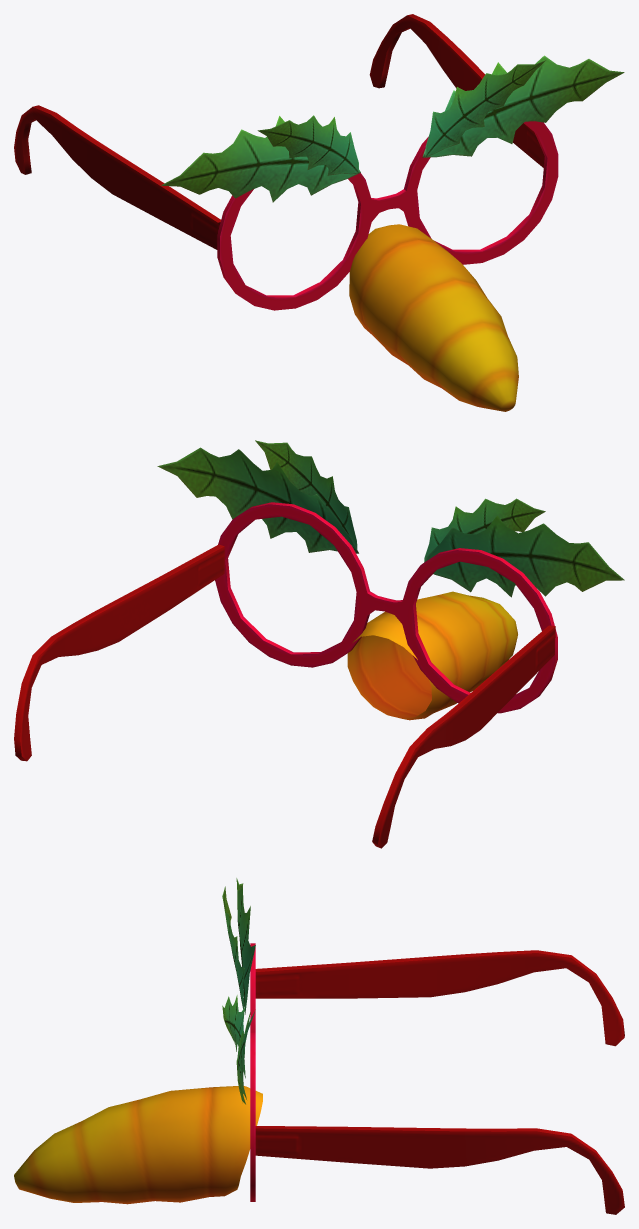
File: glasses.glb
3 views of the same model, one above another, from view 1: azimuth 30°, elevation 25°; view 2: azimuth 150°, elevation 25°; view 3: azimuth 270°, elevation 25° (orthographic). The views are drawn at different scales.
Visible parts, largest first — view 1: Wolf3D_Glasses; view 2: Wolf3D_Glasses; view 3: Wolf3D_Glasses.
Part boxes in pixels (left/top/right/bottom): Wolf3D_Glasses: left=14, top=14, right=624, bottom=411; Wolf3D_Glasses: left=14, top=440, right=624, bottom=848; Wolf3D_Glasses: left=14, top=878, right=624, bottom=1214.
Bounding box in the file's own units: 0.196 × 0.1027 × 0.2284.
1 material, 1 textured.
